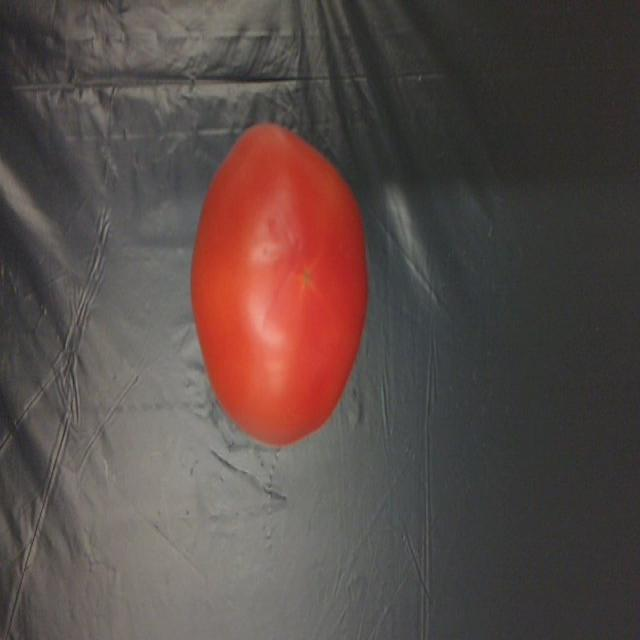kirmizi: (169, 120, 380, 465)
